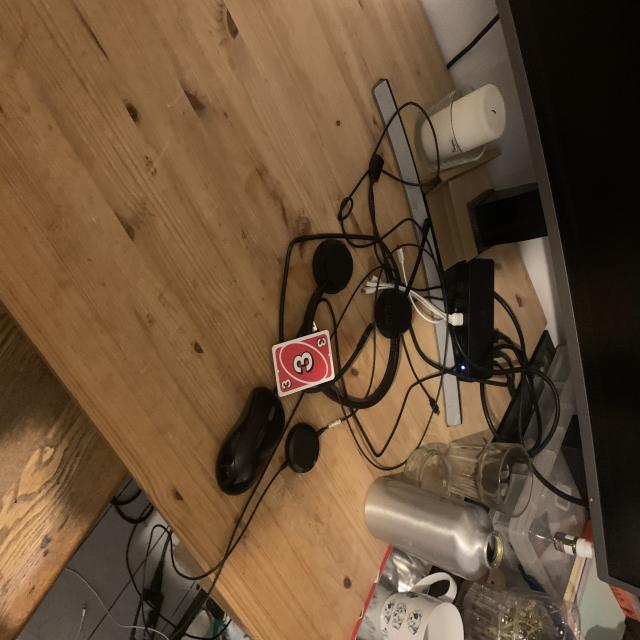lred-3: (314, 336, 328, 349)
